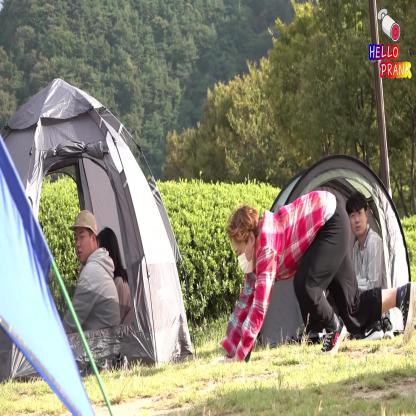Fall_Down: (214, 190, 416, 372)
